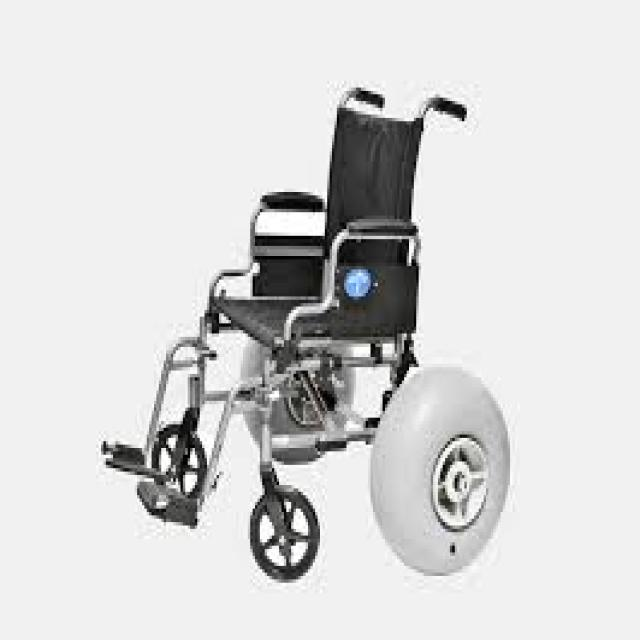wheelchairs: (94, 68, 534, 596)
